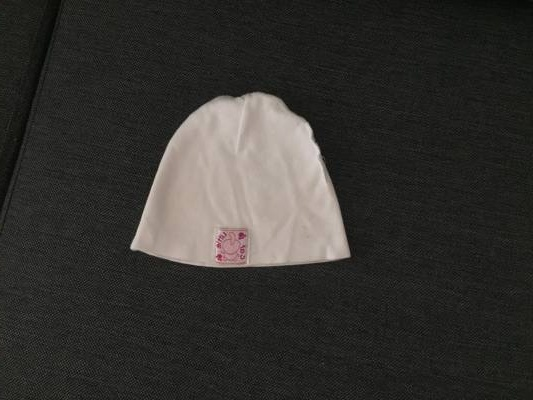Hat: (121, 61, 350, 280)
